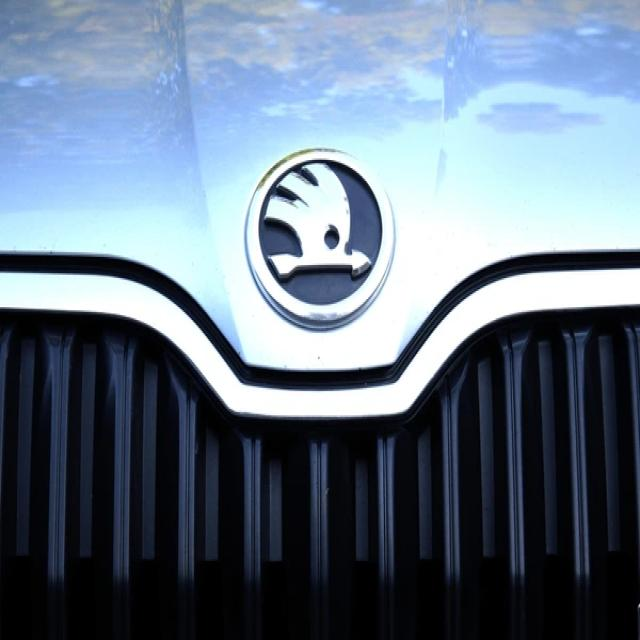skoda: (234, 138, 406, 344)
